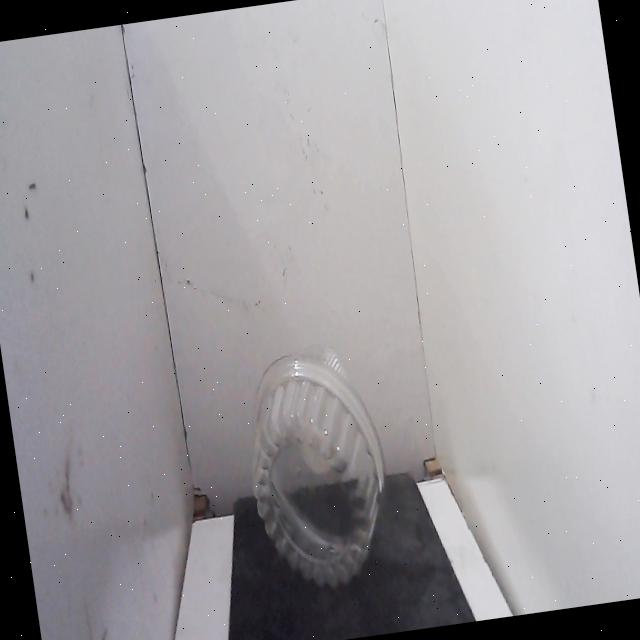plastico: (224, 326, 409, 608)
